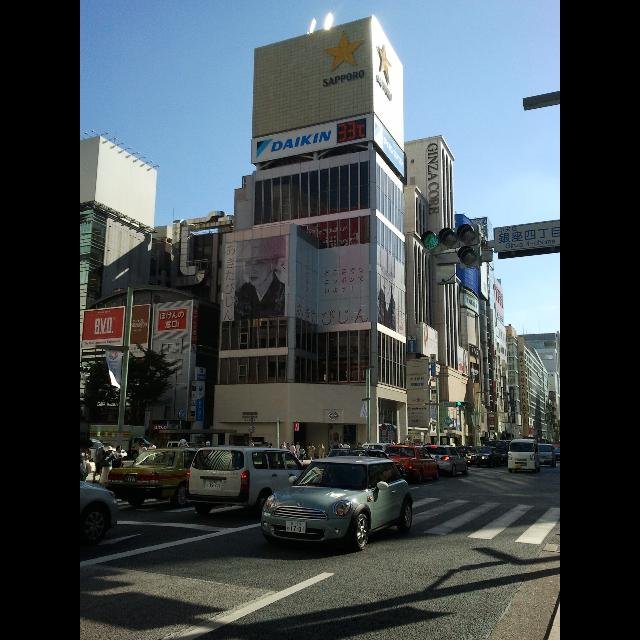head: (234, 240, 286, 318), (106, 446, 114, 454), (98, 440, 102, 446), (118, 446, 122, 452), (150, 442, 154, 446), (321, 442, 324, 446), (142, 443, 144, 447), (284, 442, 286, 446), (310, 442, 312, 446), (310, 444, 314, 446), (250, 440, 253, 442), (270, 444, 272, 446), (281, 444, 283, 446), (287, 443, 289, 445), (292, 444, 294, 446), (298, 442, 300, 444), (301, 447, 303, 449), (332, 443, 334, 445)
person: (234, 240, 286, 318), (99, 446, 117, 490), (92, 440, 106, 484), (112, 445, 124, 487), (147, 441, 157, 469), (138, 443, 148, 467), (318, 442, 326, 463), (288, 443, 296, 463), (308, 443, 316, 463), (306, 442, 314, 460), (299, 447, 307, 463), (249, 440, 255, 460), (281, 442, 287, 462), (295, 442, 301, 462), (268, 442, 274, 460), (329, 443, 335, 457), (279, 442, 283, 458), (286, 443, 290, 457)
